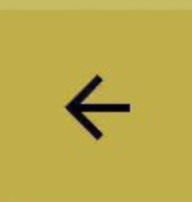ImgButton: (1, 1, 191, 201)
